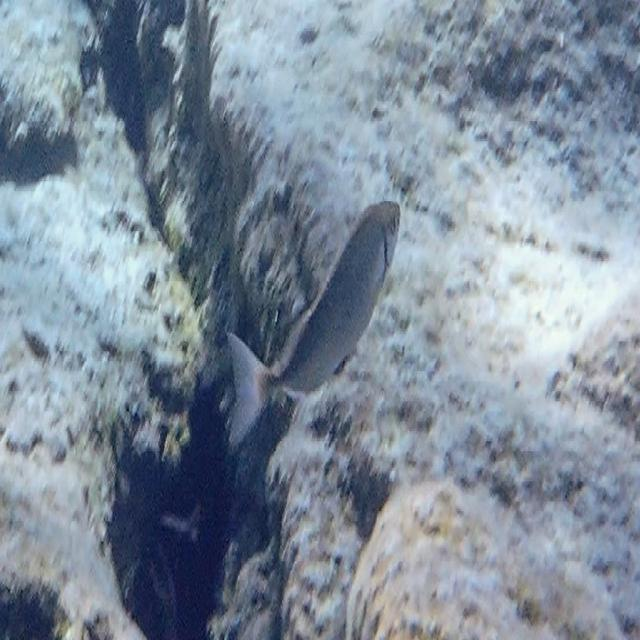Sokar Baligi: (216, 164, 418, 470)
